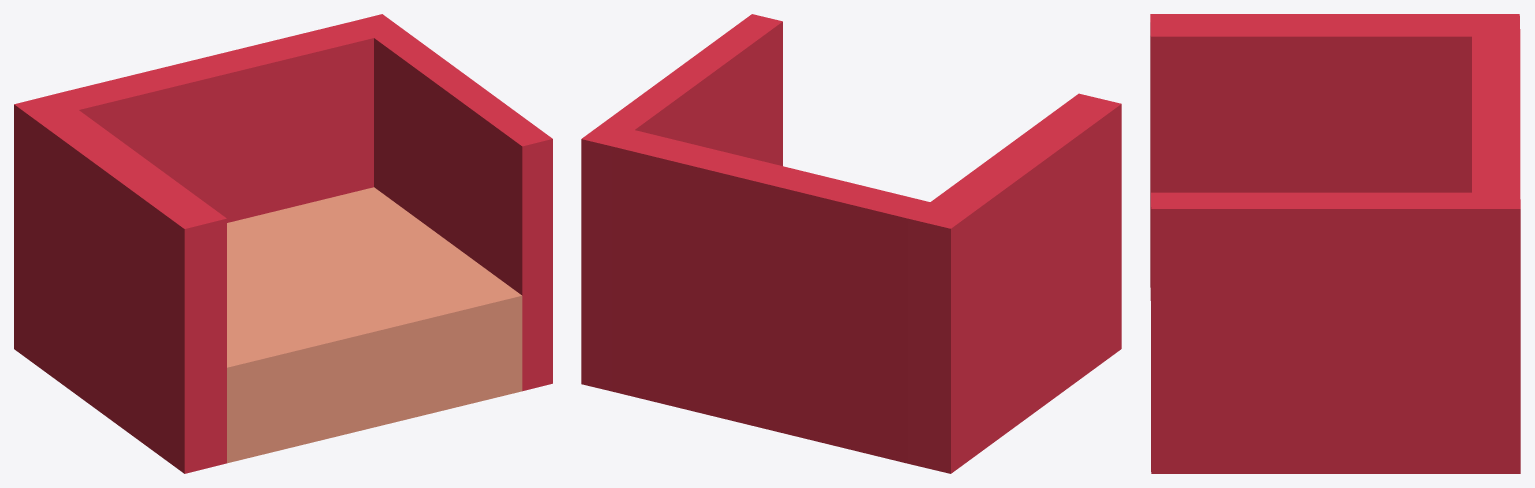
File: darkoltuk.fbx
3 renders of one model, left to right at view 1: azimuth 30°, elevation 25°; view 2: azimuth 150°, elevation 25°; view 3: azimuth 270°, elevation 25°, orthographic. The views are drawn at different scales.
Visible parts, largest first — view 1: Cube.008; view 2: Cube.008; view 3: Cube.008.
Boxes of the visible parts, x1,y1,x2,y2 form: Cube.008: (14, 14, 552, 473); Cube.008: (581, 14, 1121, 473); Cube.008: (1150, 14, 1520, 473).
Size of the model in its own units: 316 by 200 by 254.
